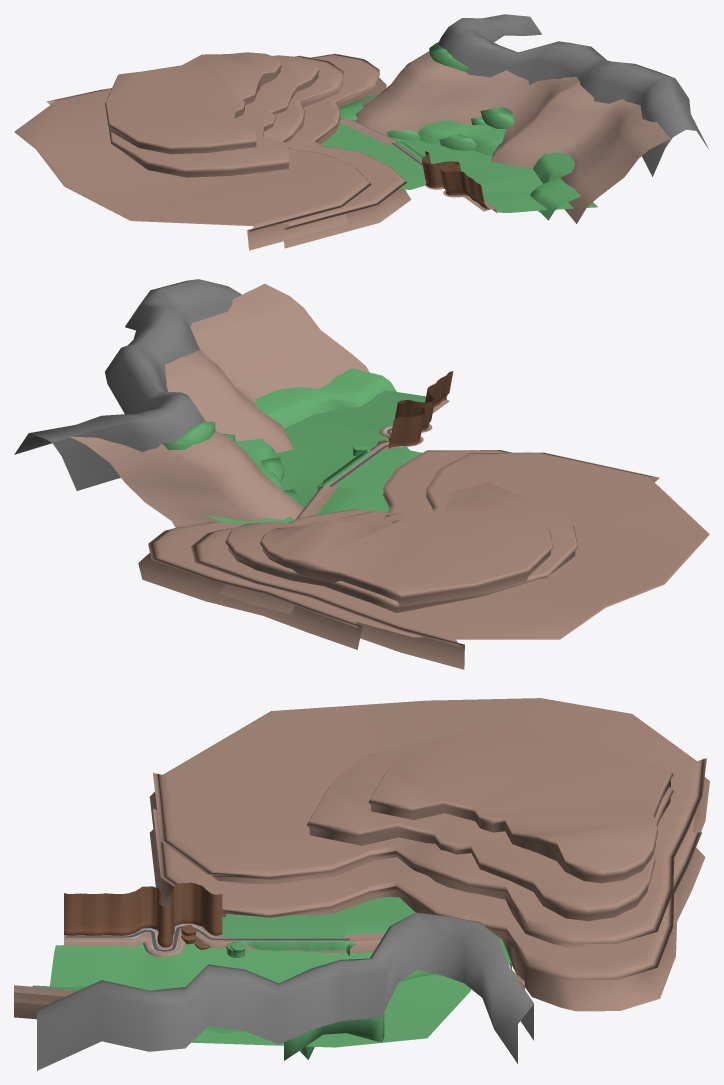
3 renders of one model, top to bottom at view 1: azimuth 30°, elevation 25°; view 2: azimuth 150°, elevation 25°; view 3: azimuth 270°, elevation 25°, orthographic. The views are drawn at different scales.
Visible parts, largest first — view 1: polySurface27, polySurface19, polySurface36, polySurface20, polySurface26, polySurface35, polySurface17, polySurface18, polySurface16, polySurface31, polySurface9, polySurface22 (+2 smaller); view 2: polySurface27, polySurface19, polySurface36, polySurface20, polySurface26, polySurface17, polySurface35, polySurface18, polySurface16, polySurface31, polySurface9, polySurface21; view 3: polySurface27, polySurface20, polySurface36, polySurface26, polySurface17, polySurface35, polySurface16, polySurface9, polySurface31, polySurface22, polySurface19, polySurface32 (+1 smaller).
Part boxes in pixels (left/top/right/bottom): polySurface27: left=14, top=55, right=371, bottom=250; polySurface19: left=355, top=51, right=670, bottom=223; polySurface36: left=105, top=52, right=281, bottom=154; polySurface20: left=438, top=14, right=708, bottom=176; polySurface26: left=282, top=53, right=411, bottom=248; polySurface35: left=107, top=55, right=319, bottom=177; polySurface17: left=321, top=123, right=597, bottom=212; polySurface18: left=339, top=94, right=580, bottom=220; polySurface16: left=422, top=151, right=486, bottom=209; polySurface31: left=361, top=144, right=424, bottom=179; polySurface9: left=339, top=119, right=497, bottom=213; polySurface22: left=480, top=107, right=513, bottom=128; polySurface27: left=191, top=452, right=709, bottom=669; polySurface19: left=70, top=283, right=369, bottom=527; polySurface36: left=260, top=493, right=553, bottom=606; polySurface20: left=14, top=279, right=241, bottom=490; polySurface26: left=138, top=450, right=511, bottom=649; polySurface17: left=276, top=390, right=425, bottom=514; polySurface35: left=225, top=482, right=578, bottom=613; polySurface18: left=204, top=368, right=396, bottom=524; polySurface16: left=388, top=371, right=453, bottom=449; polySurface31: left=335, top=449, right=413, bottom=495; polySurface9: left=295, top=400, right=449, bottom=519; polySurface21: left=163, top=421, right=215, bottom=450; polySurface27: left=149, top=698, right=709, bottom=947; polySurface20: left=37, top=912, right=533, bottom=1070; polySurface36: left=368, top=730, right=673, bottom=883; polySurface26: left=149, top=809, right=705, bottom=1011; polySurface17: left=50, top=896, right=471, bottom=1047; polySurface35: left=307, top=741, right=673, bottom=921; polySurface16: left=64, top=882, right=222, bottom=947; polySurface9: left=64, top=923, right=385, bottom=956; polySurface31: left=221, top=913, right=348, bottom=938; polySurface22: left=284, top=1012, right=384, bottom=1060; polySurface19: left=14, top=969, right=524, bottom=1019; polySurface32: left=235, top=940, right=356, bottom=955.
Bounding box in the file's own units: 860 × 159 × 650.
